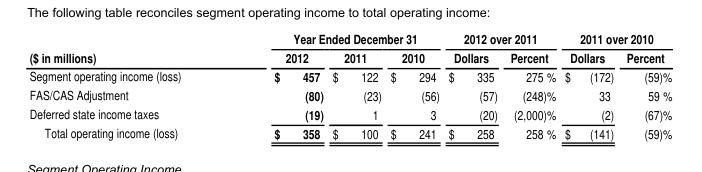table: (28, 29, 671, 141)
table column: (28, 29, 227, 141), (227, 29, 327, 141), (443, 29, 503, 141), (559, 29, 619, 141), (327, 29, 385, 141), (385, 29, 443, 141), (503, 29, 559, 141), (619, 29, 671, 141)
table column header: (28, 29, 671, 65)
table row: (28, 65, 671, 84), (28, 84, 671, 103), (28, 103, 671, 122), (28, 122, 671, 141), (28, 29, 671, 47), (28, 47, 671, 65)
table spanning cell: (28, 29, 227, 65), (227, 29, 443, 47), (443, 29, 559, 47), (559, 29, 671, 47)
